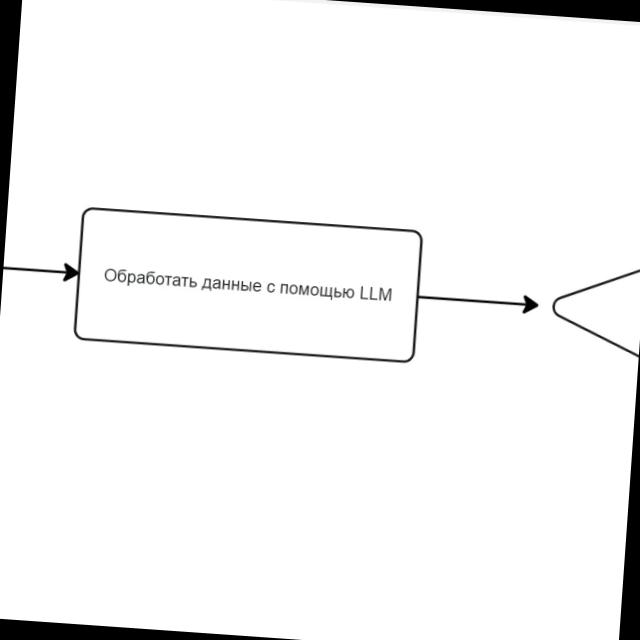arrow: (419, 283, 540, 319)
rectangle: (72, 206, 424, 363)
